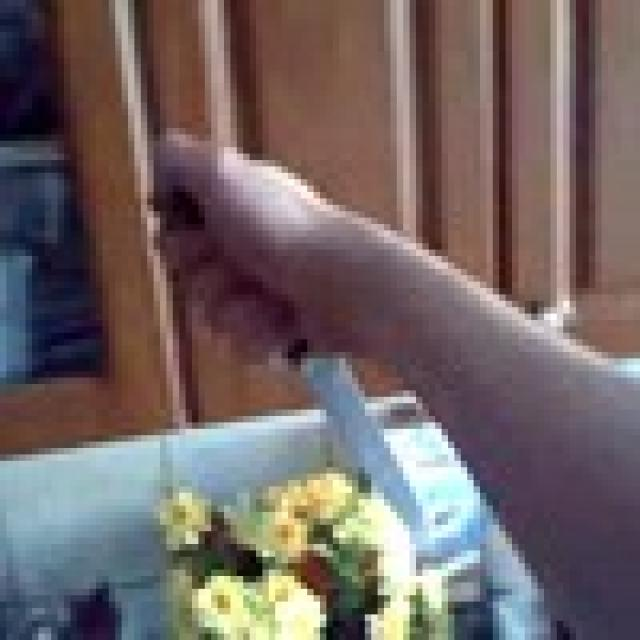weapon: (166, 185, 422, 538)
